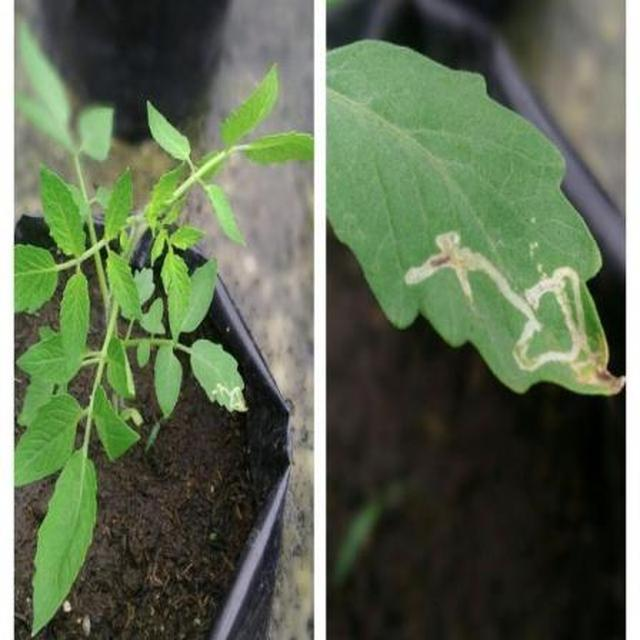Leaf Miner: (39, 106, 640, 640)
